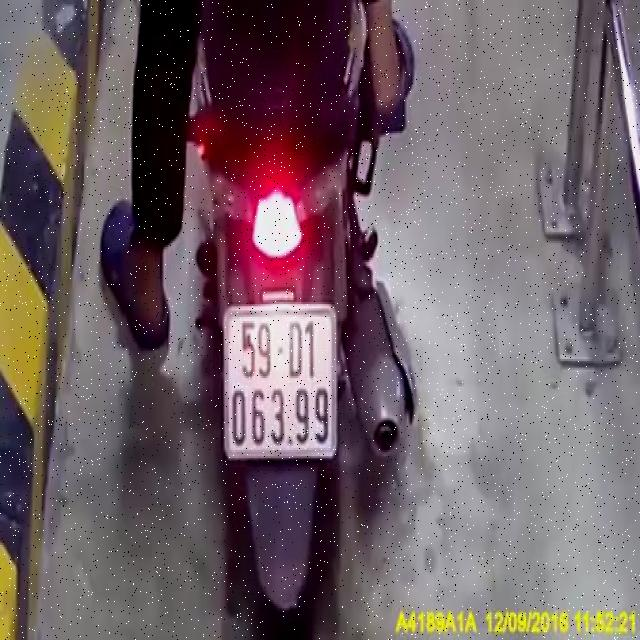0: (230, 386, 247, 446)
1: (304, 320, 317, 380)
3: (270, 386, 284, 447)
5: (241, 318, 257, 381)
6: (251, 387, 267, 448)
9: (313, 386, 332, 446), (294, 386, 310, 446), (257, 322, 272, 384)
D: (285, 318, 304, 379)
